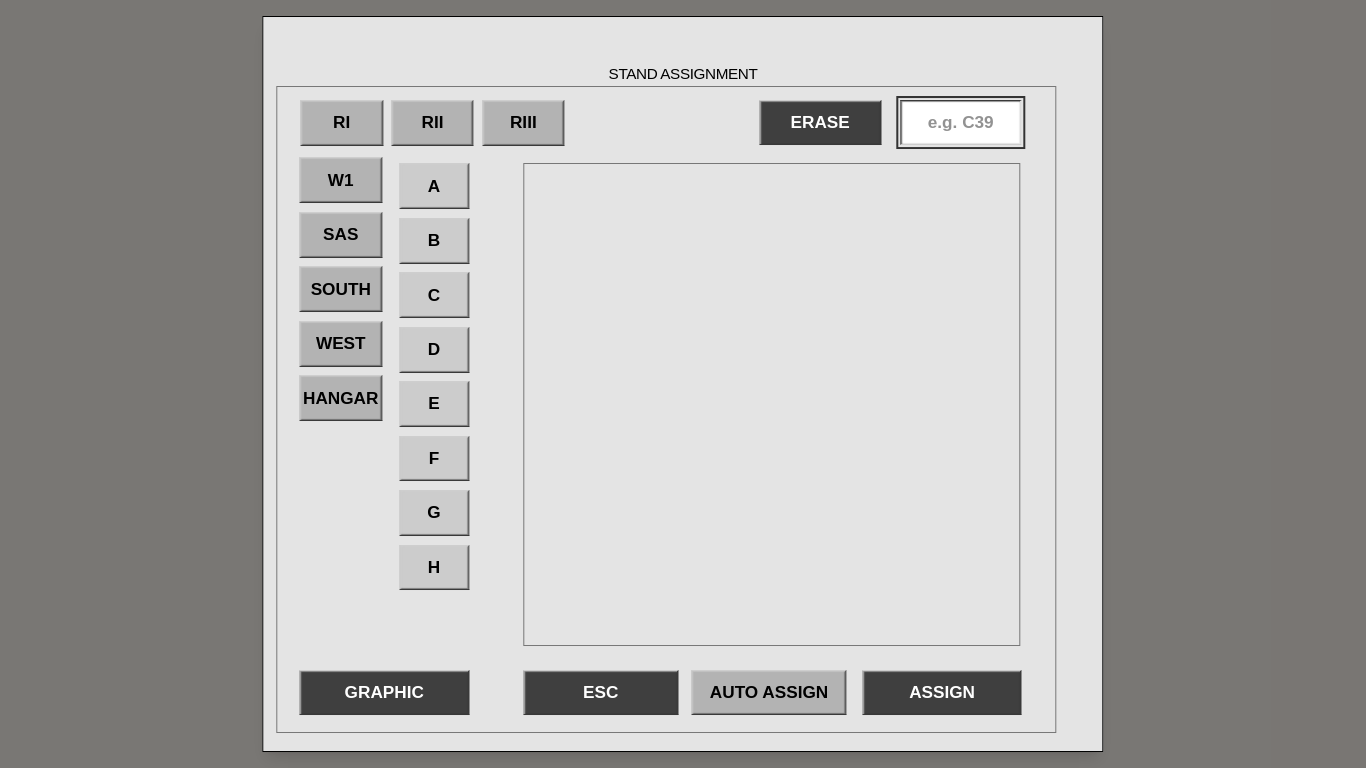
arrival stand assignment dialog › opens with an empty panel when no stand is assigned
Expected: the field is empty, [900,100,1021,145]
Step 1. Click the button "E" → (434, 404), box [399,381,469,427]
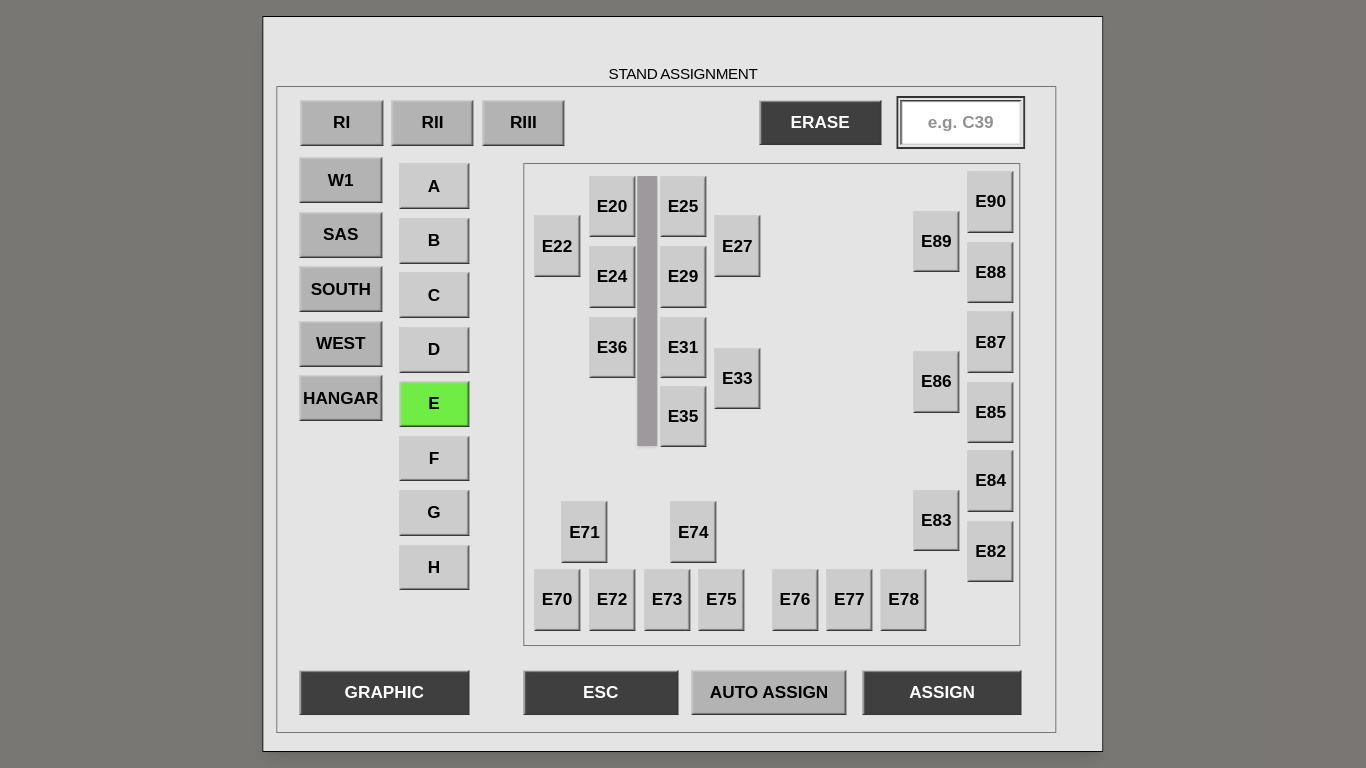
Now the element named "E stands" is shown, box [523,163,1020,646]
